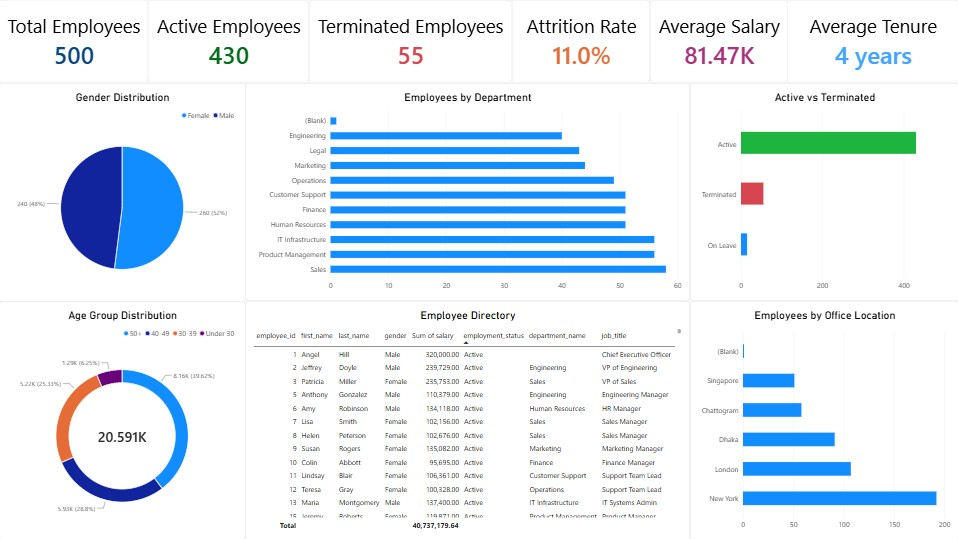

The dashboard page shown, as its layout file describes it:
{"tool":"powerbi","page":{"name":"HR Overview","canvas":[1920,1080],"ordinal":0},"visuals":[{"type":"cardVisual","fields":{"Data":["Employees.Total_Employees"]},"box":[0,0,298.3,165],"z":0},{"type":"cardVisual","fields":{"Data":["Employees.Active_Employees"]},"box":[298.3,0,321.7,165],"z":1000},{"type":"cardVisual","fields":{"Data":["Employees.Terminated_Employees"]},"box":[620,0,405,165],"z":2000},{"type":"cardVisual","fields":{"Data":["Employees.Attrition_Rate"]},"box":[1025,0,276.7,165],"z":3000},{"type":"cardVisual","fields":{"Data":["Employees.Avg_Salary"]},"box":[1301.7,0,275,165],"z":4000},{"type":"cardVisual","fields":{"Data":["Employees.Avg_Tenure"]},"box":[1576.7,0,343.3,165],"z":5000},{"type":"pieChart","title":"Gender Distribution","fields":{"Category":["Employees.gender"],"Y":["CountNonNull(Employees.employee_id)"]},"box":[0,165,492.5,437.5],"z":6000},{"type":"clusteredBarChart","title":"Employees by Department","fields":{"Category":["Departments.department_name"],"Y":["Attendance.Employee_Count"]},"box":[492,166,890,436],"z":7000},{"type":"clusteredBarChart","title":"Active vs Terminated","fields":{"Category":["Employees.employment_status"],"Y":["CountNonNull(Employees.employee_id)"]},"box":[1382,166,538,436],"z":8000},{"type":"donutChart","title":"Age Group Distribution","fields":{"Category":["Employees.Age_Group"],"Y":["CountNonNull(Attendance.employee_id)"]},"box":[0,602.5,492.5,477.5],"z":9000},{"type":"tableEx","title":"Employee Directory","fields":{"Values":["Attendance.employee_id","Employees.first_name","Employees.last_name","Employees.gender","Sum(Employees.salary)","Employees.employment_status","Departments.department_name","Jobs.job_title"]},"box":[492,602,890,478],"z":10000},{"type":"clusteredBarChart","title":"Employees by Office Location","fields":{"Category":["Locations.city"],"Y":["Attendance.Total_Employee_Count"]},"box":[1382,602,538,478],"z":11000}]}

Visuals, with their boxes in screenshot pixels (x1, y1, x2, y2), scaled from the page's 1920x1080 canvas onto the 958x539 screenshot:
cardVisual - Employees.Total_Employees: pyautogui.locateOnScreen(0, 0, 149, 82)
cardVisual - Employees.Active_Employees: pyautogui.locateOnScreen(149, 0, 309, 82)
cardVisual - Employees.Terminated_Employees: pyautogui.locateOnScreen(309, 0, 511, 82)
cardVisual - Employees.Attrition_Rate: pyautogui.locateOnScreen(511, 0, 649, 82)
cardVisual - Employees.Avg_Salary: pyautogui.locateOnScreen(649, 0, 787, 82)
cardVisual - Employees.Avg_Tenure: pyautogui.locateOnScreen(787, 0, 957, 82)
"Gender Distribution" pieChart: pyautogui.locateOnScreen(0, 82, 246, 301)
"Employees by Department" clusteredBarChart: pyautogui.locateOnScreen(245, 83, 690, 300)
"Active vs Terminated" clusteredBarChart: pyautogui.locateOnScreen(690, 83, 957, 300)
"Age Group Distribution" donutChart: pyautogui.locateOnScreen(0, 301, 246, 538)
"Employee Directory" tableEx: pyautogui.locateOnScreen(245, 300, 690, 538)
"Employees by Office Location" clusteredBarChart: pyautogui.locateOnScreen(690, 300, 957, 538)
